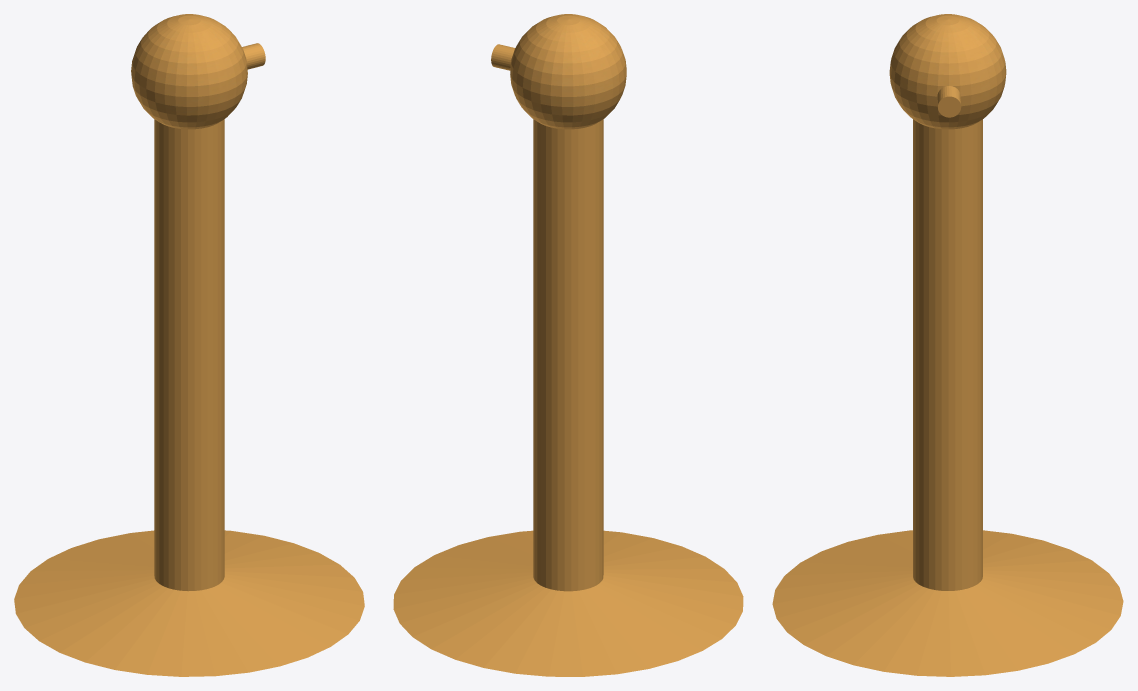
File: fan_arm.obj
3 renders of one model, left to right at view 1: azimuth 30°, elevation 25°; view 2: azimuth 150°, elevation 25°; view 3: azimuth 270°, elevation 25°, orthographic.
Parts seen in each view (by area): view 1: Circle.001_Circle; view 2: Circle.001_Circle; view 3: Circle.001_Circle.
Part boxes in pixels (x1,y1,x2,y2): Circle.001_Circle: (14, 14, 364, 676); Circle.001_Circle: (393, 14, 743, 676); Circle.001_Circle: (772, 14, 1123, 676).
Size of the model in its own units: 1.2 by 2.2 by 1.2.
